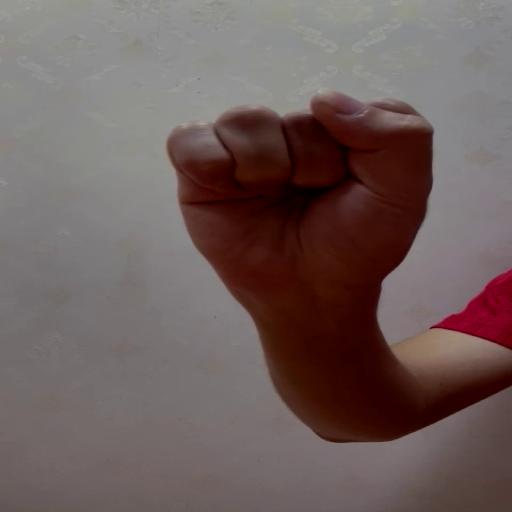fist: (165, 96, 434, 291)
